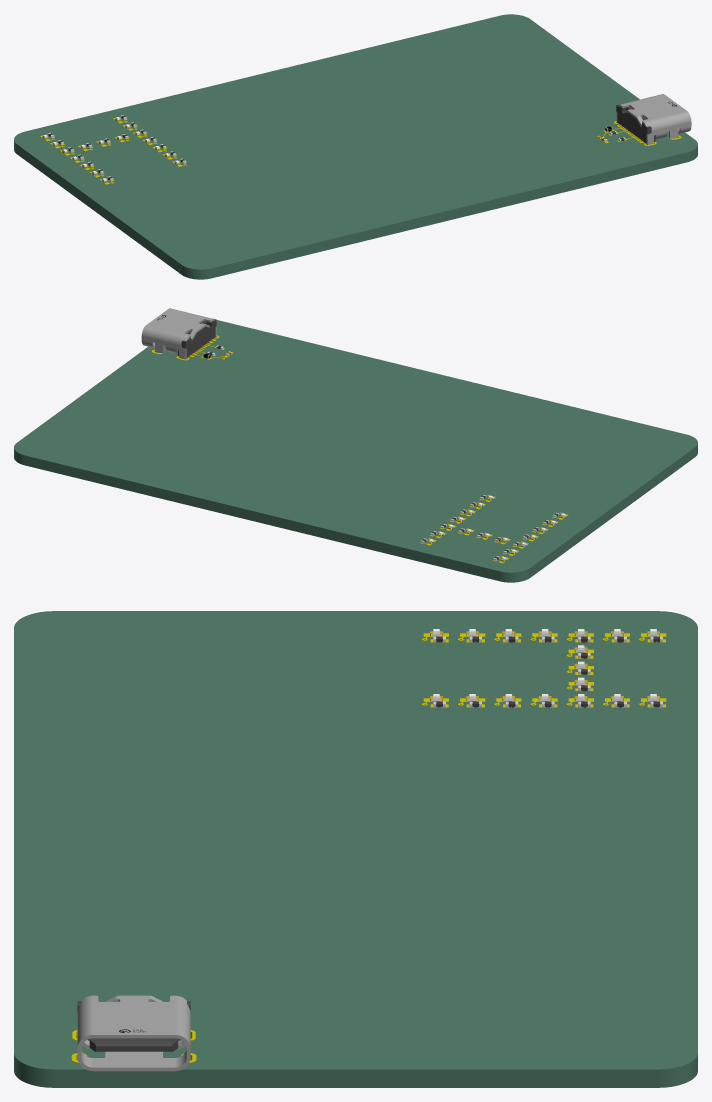
File: pcba.glb
The picture shows the model from 3 angles, top to bottom: view 1: azimuth 30°, elevation 25°; view 2: azimuth 150°, elevation 25°; view 3: azimuth 270°, elevation 25°; orthographic projection. The views are drawn at different scales.
Parts seen in each view (by area): view 1: =>[0:1:1:215], =>[0:1:1:11]; view 2: =>[0:1:1:215], =>[0:1:1:11]; view 3: =>[0:1:1:215], =>[0:1:1:11].
Boxes of the visible parts, x1=… form: =>[0:1:1:215]: x1=14, y1=14, x2=697, y2=279; =>[0:1:1:11]: x1=616, y1=94, x2=691, y2=145; =>[0:1:1:215]: x1=14, y1=320, x2=697, y2=582; =>[0:1:1:11]: x1=141, y1=308, x2=216, y2=359; =>[0:1:1:215]: x1=14, y1=611, x2=697, y2=1087; =>[0:1:1:11]: x1=77, y1=995, x2=190, y2=1071.
Bounding box in the file's own units: 0.0861 × 0.00487 × 0.054.
